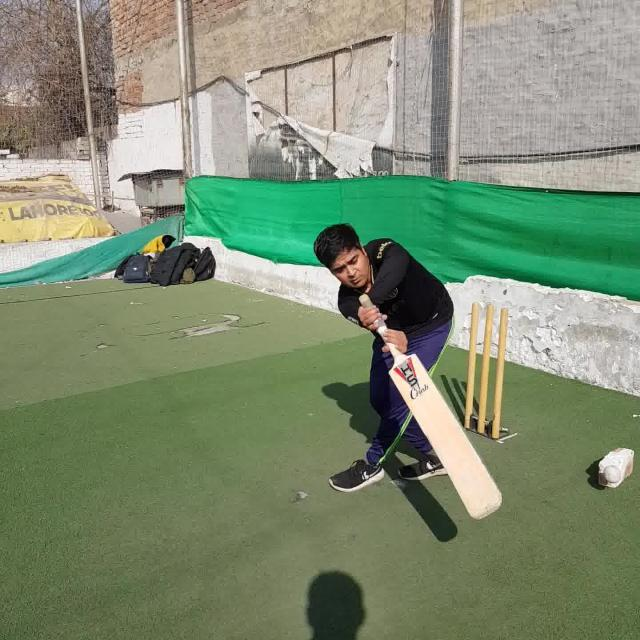bat: (359, 295, 503, 521)
